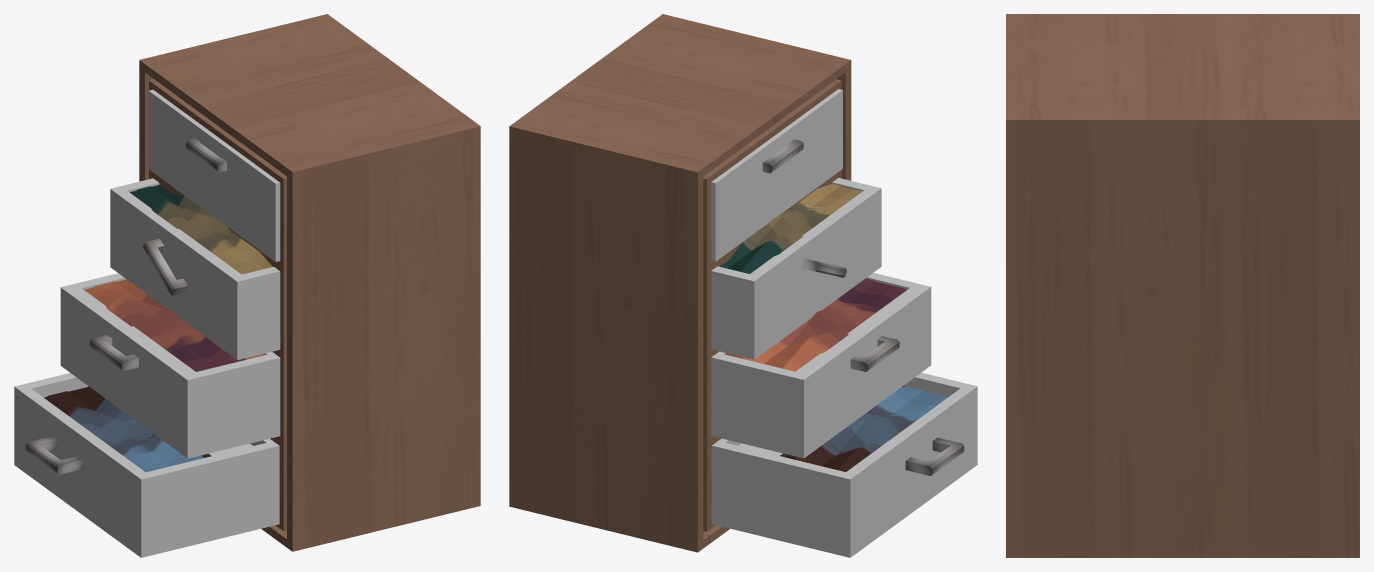
The model's file is Comod.fbx.
3 views of the same model, side by side, from view 1: azimuth 30°, elevation 25°; view 2: azimuth 150°, elevation 25°; view 3: azimuth 270°, elevation 25° (orthographic). The views are drawn at different scales.
Visible parts, largest first — view 1: Cube_110, Cube_113, Cube_116, Cube_332, Cube_152, Plane_016, Plane_015, Plane_051, Cube_114, Cube_352, Cube_117, Cube_153; view 2: Cube_110, Cube_113, Cube_116, Cube_332, Cube_152, Plane_016, Plane_015, Plane_051, Cube_114, Cube_117, Cube_153; view 3: Cube_110.
Boxes of the visible parts, x1,y1,x2,y2 form: Cube_110: (139,14,480,551); Cube_113: (14,373,279,557); Cube_116: (60,273,280,458); Cube_332: (110,178,280,359); Cube_152: (148,89,280,261); Plane_016: (84,279,264,371); Plane_015: (44,386,211,472); Plane_051: (130,185,272,274); Cube_114: (25,436,84,474); Cube_352: (142,238,187,295); Cube_117: (90,335,138,370); Cube_153: (186,138,226,172); Cube_110: (509,14,851,552); Cube_113: (711,372,977,557); Cube_116: (711,273,931,458); Cube_332: (711,177,881,359); Cube_152: (711,89,842,261); Plane_016: (725,278,907,371); Plane_015: (780,386,947,471); Plane_051: (720,184,861,273); Cube_114: (905,437,964,475); Cube_117: (850,336,899,371); Cube_153: (762,139,803,173); Cube_110: (1006,14,1359,557).
Size of the model in its own units: 1221 by 1223 by 895.
